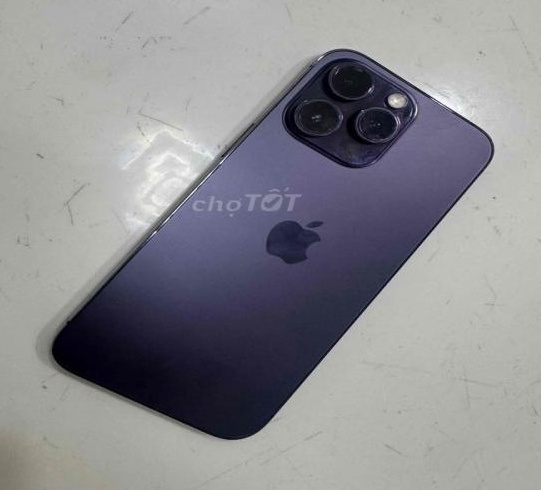scratch: (287, 95, 348, 140), (349, 107, 406, 150), (326, 59, 379, 104), (380, 83, 420, 123), (339, 148, 404, 171)
